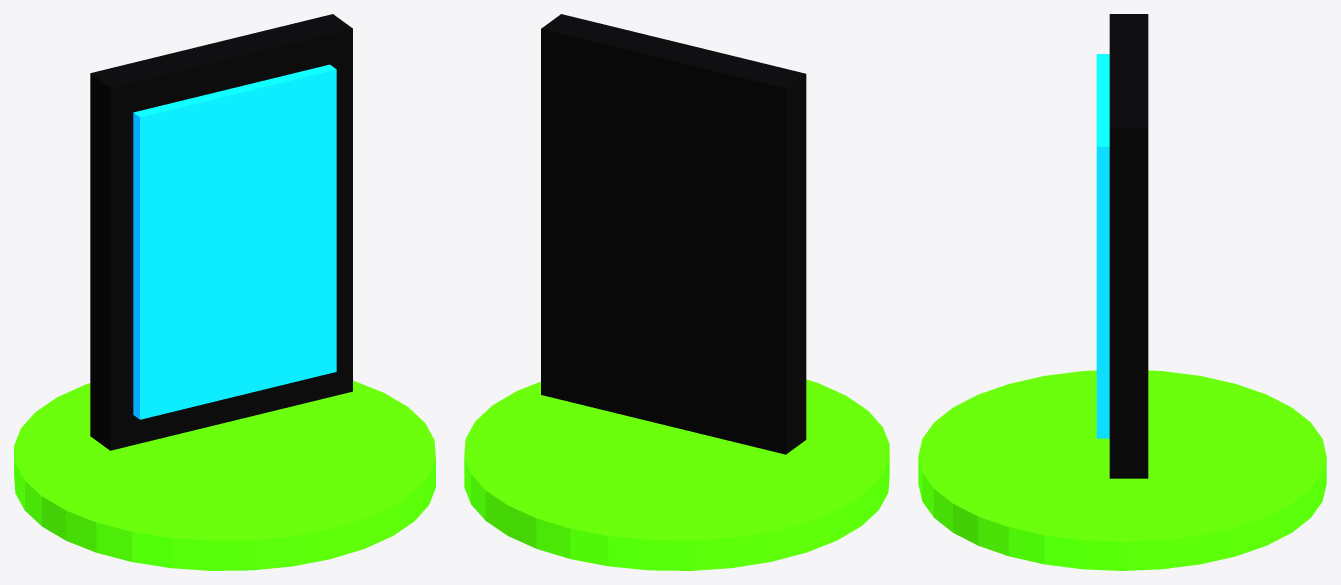
The model's file is tech_tablet.dae.
3 renders of one model, left to right at view 1: azimuth 30°, elevation 25°; view 2: azimuth 150°, elevation 25°; view 3: azimuth 270°, elevation 25°, orthographic. The views are drawn at different scales.
Parts seen in each view (by area): view 1: 08_08_Popular_Tech_Tablet_part_02, 08_08_Popular_Tech_Tablet_ROOT_base, 08_08_Popular_Tech_Tablet_part_01; view 2: 08_08_Popular_Tech_Tablet_part_01, 08_08_Popular_Tech_Tablet_ROOT_base; view 3: 08_08_Popular_Tech_Tablet_ROOT_base, 08_08_Popular_Tech_Tablet_part_01, 08_08_Popular_Tech_Tablet_part_02.
Part boxes in pixels (bbox=[...]): 08_08_Popular_Tech_Tablet_part_02: bbox=[133, 64, 336, 419]; 08_08_Popular_Tech_Tablet_ROOT_base: bbox=[14, 380, 435, 570]; 08_08_Popular_Tech_Tablet_part_01: bbox=[90, 14, 352, 450]; 08_08_Popular_Tech_Tablet_part_01: bbox=[541, 14, 806, 454]; 08_08_Popular_Tech_Tablet_ROOT_base: bbox=[464, 379, 889, 570]; 08_08_Popular_Tech_Tablet_ROOT_base: bbox=[918, 370, 1326, 570]; 08_08_Popular_Tech_Tablet_part_01: bbox=[1109, 14, 1148, 478]; 08_08_Popular_Tech_Tablet_part_02: bbox=[1096, 54, 1109, 438].
Size of the model in its own units: 0.76 by 0.85 by 0.76.
